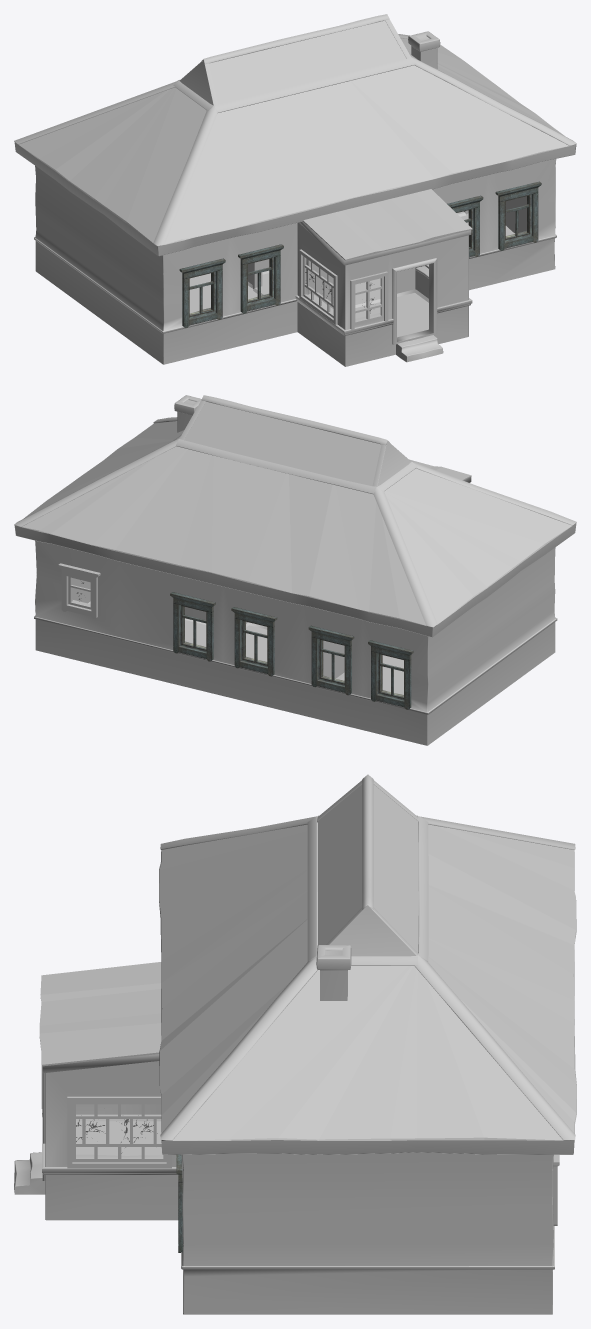
File: House.fbx
3 views of the same model, one above another, from view 1: azimuth 30°, elevation 25°; view 2: azimuth 150°, elevation 25°; view 3: azimuth 270°, elevation 25° (orthographic). The views are drawn at different scales.
Visible parts, largest first — view 1: q9:Mesh1, mainHouse01, q10:Mesh, Windows, windowsCeiling, hallway, Room05, door_frames; view 2: q9:Mesh1, mainHouse01, q10:Mesh, Windows, Window, Room08; view 3: q9:Mesh1, mainHouse01, q10:Mesh, windowsCeiling, hallway.
Part boxes in pixels (box(x1,y1,x2,y2)): q9:Mesh1: box(18, 20, 569, 260); mainHouse01: box(34, 159, 556, 366); q10:Mesh: box(14, 14, 576, 362); Windows: box(179, 181, 541, 327); windowsCeiling: box(299, 249, 428, 329); hallway: box(306, 258, 428, 308); Room05: box(505, 196, 526, 232); door_frames: box(252, 210, 468, 307); q9:Mesh1: box(21, 395, 572, 625); mainHouse01: box(34, 540, 557, 745); q10:Mesh: box(14, 395, 576, 694); Windows: box(170, 592, 413, 709); Window: box(58, 563, 100, 619); Room08: box(323, 640, 344, 678); q9:Mesh1: box(39, 784, 576, 1140); mainHouse01: box(43, 1061, 554, 1314); q10:Mesh: box(14, 774, 575, 1194); windowsCeiling: box(41, 1066, 171, 1168); hallway: box(76, 1104, 161, 1114).
Bounding box in the file's own units: 1482 × 791 × 1191.
